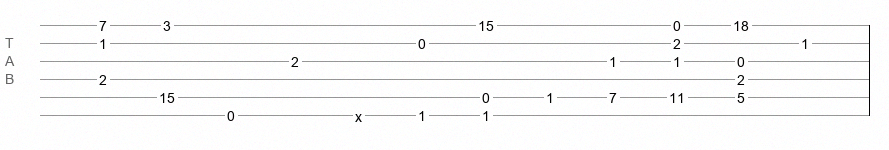0: (227, 108, 235, 118), (418, 36, 426, 46), (482, 90, 490, 100), (673, 18, 681, 28), (737, 54, 745, 64)
1: (99, 36, 107, 46), (418, 108, 426, 118), (482, 108, 490, 118), (546, 90, 554, 100), (609, 54, 617, 64), (673, 54, 681, 64), (801, 36, 809, 46)
11: (669, 90, 685, 100)
15: (159, 90, 175, 100), (478, 18, 494, 28)
18: (733, 18, 749, 28)
2: (99, 72, 107, 82), (291, 54, 299, 64), (673, 36, 681, 46), (737, 72, 745, 82)
3: (163, 18, 171, 28)
5: (737, 90, 745, 100)
7: (99, 18, 107, 28), (609, 90, 617, 100)
x: (355, 109, 362, 117)
